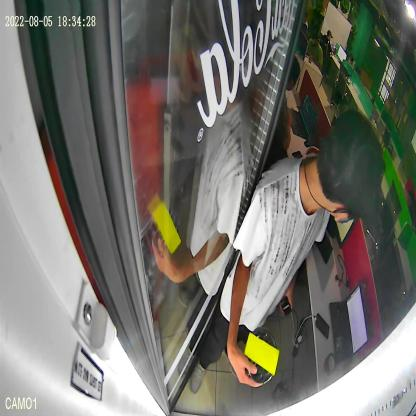yellow: (245, 325, 280, 387)
